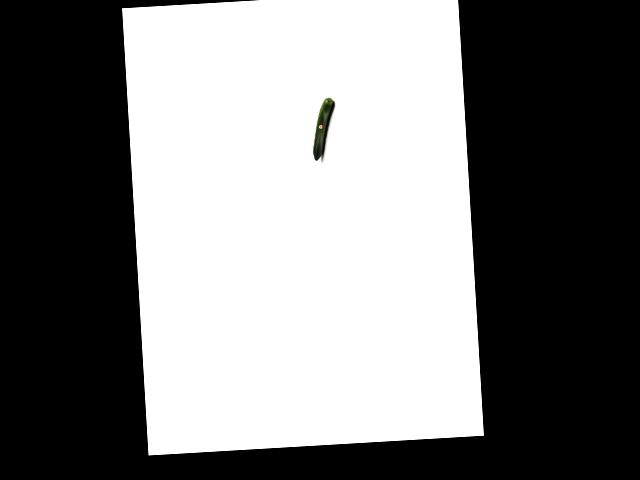cucumber: (310, 97, 337, 160)
